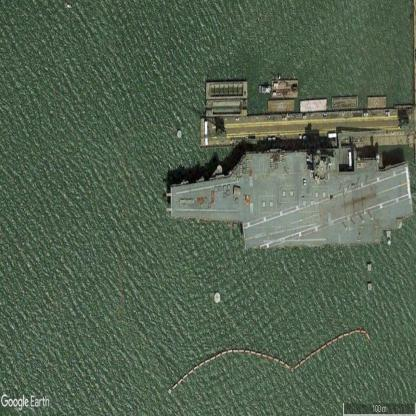ship: (170, 147, 413, 246), (258, 84, 270, 94)
